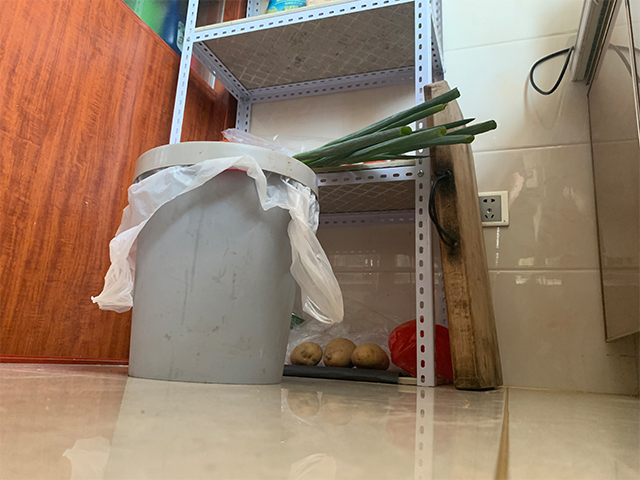trashcan: (128, 140, 320, 385)
